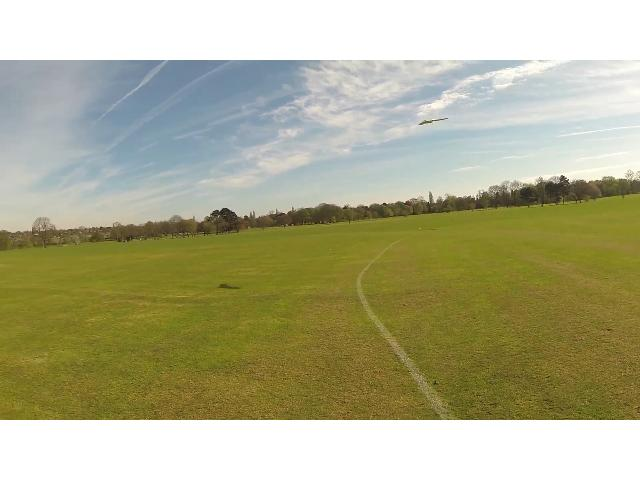Anti-Drone: (409, 109, 453, 131)
